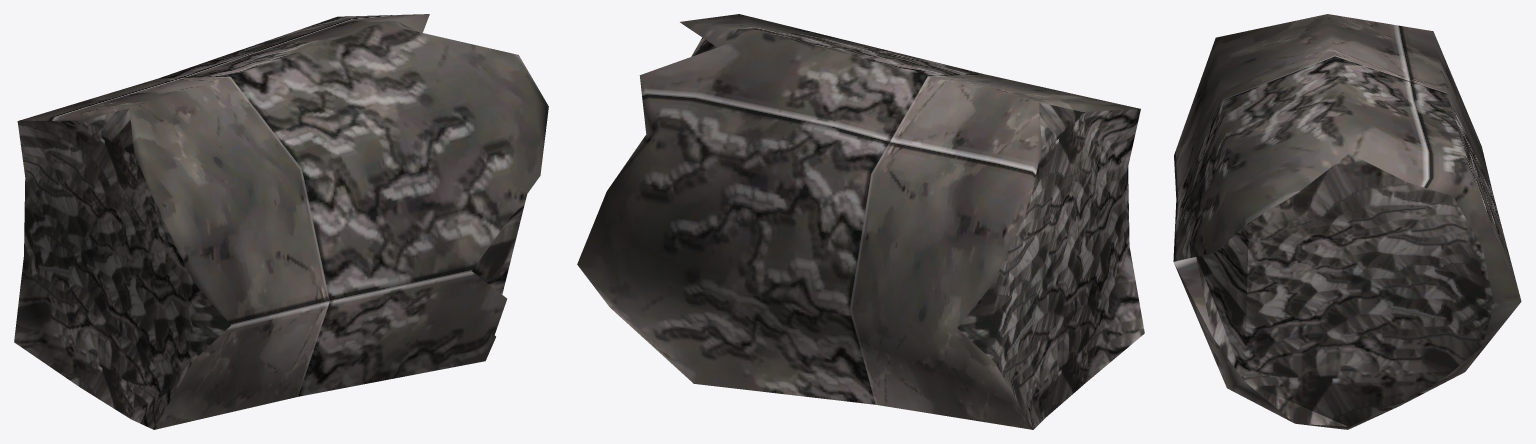
Rendered from INST_SM_COLUMN_BROKEN_PIECEB.obj.
3 views of the same model, side by side, from view 1: azimuth 30°, elevation 25°; view 2: azimuth 150°, elevation 25°; view 3: azimuth 270°, elevation 25° (orthographic). The views are drawn at different scales.
Visible parts, largest first — view 1: broken piece b; view 2: broken piece b; view 3: broken piece b.
Part boxes in pixels (bbox=[...]): broken piece b: bbox=[14, 14, 548, 429]; broken piece b: bbox=[577, 14, 1144, 429]; broken piece b: bbox=[1173, 14, 1521, 429].
Bounding box in the file's own units: 293 × 226 × 236.
